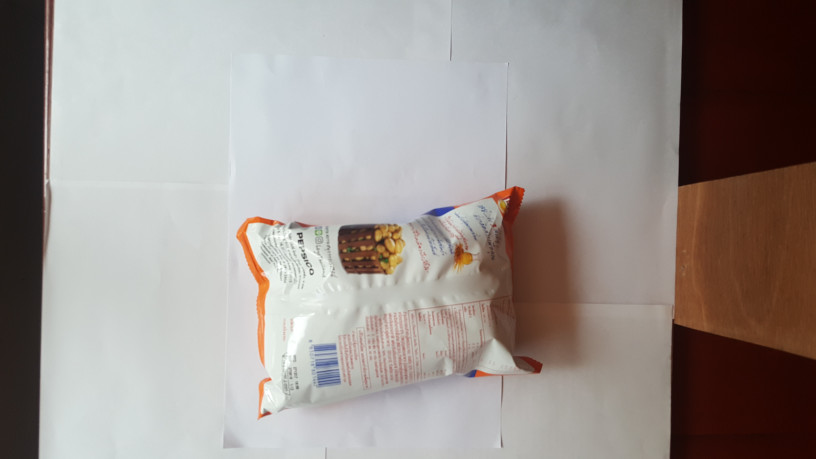lays-bbq: (229, 178, 555, 425)
